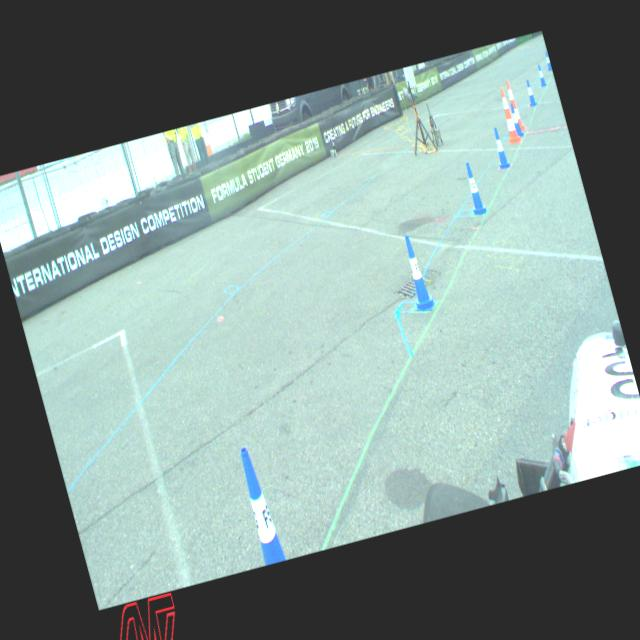blue_cone: (233, 444, 286, 565), (397, 232, 438, 313), (460, 160, 488, 216), (488, 125, 511, 168), (508, 100, 524, 136), (523, 78, 537, 106), (535, 63, 547, 86), (543, 50, 552, 70)
large_orange_cone: (494, 85, 522, 144), (504, 78, 526, 130)
